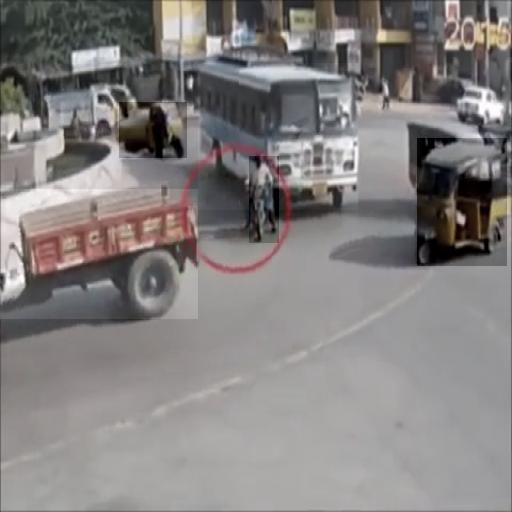小汽车: (0, 189, 198, 319), (198, 63, 358, 210), (417, 138, 507, 266), (119, 102, 187, 158)
自行车: (250, 156, 280, 243)
